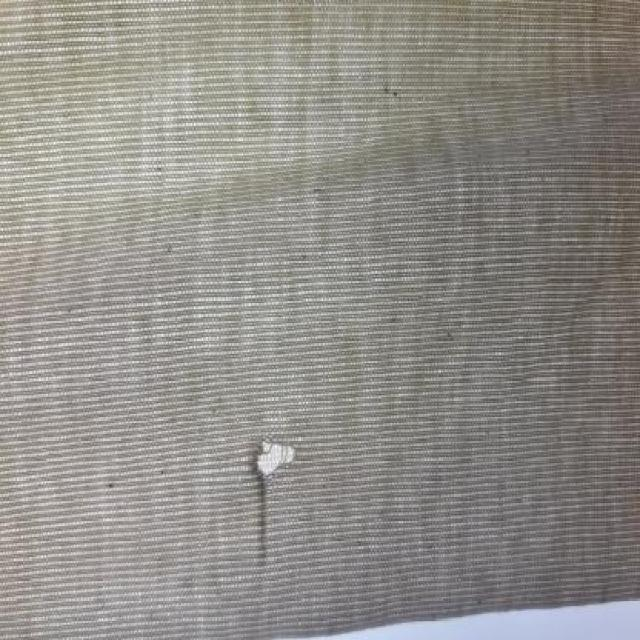seam: (168, 392, 358, 606)
